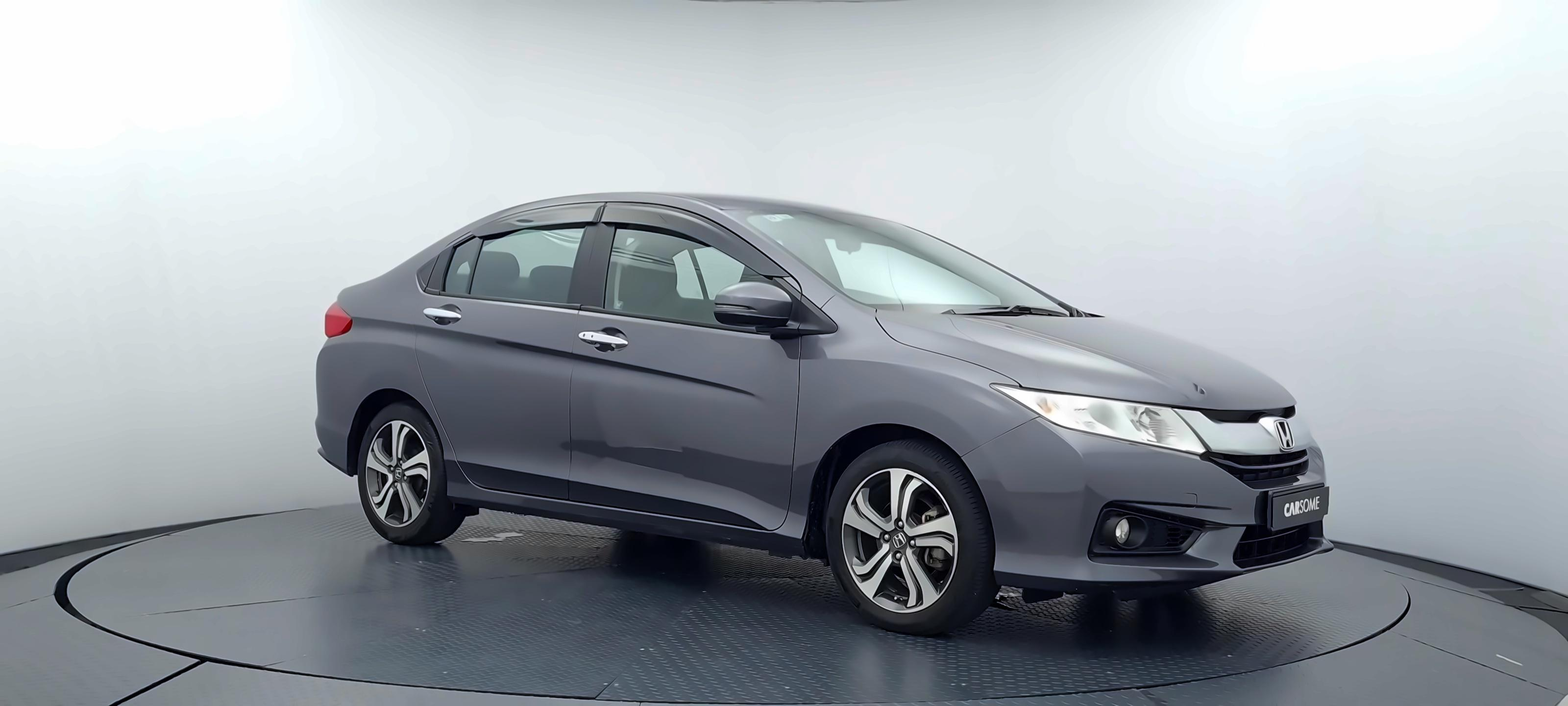Car hood: (870, 301, 1315, 420)
Driver-s door - -F-R-: (565, 189, 798, 551)
Fender - -F-R-: (799, 353, 986, 458)
Fender - -R-R-: (332, 335, 460, 423)
Front bumper: (957, 412, 1337, 593)
Headlight - -R-: (985, 376, 1209, 464)
Passenger-s door - -R-R-: (408, 194, 612, 504)
Rear bumper: (290, 333, 380, 480)
Rear light - -R-: (320, 298, 358, 344)
Side bumper - -R-: (437, 458, 820, 566)
Side mirror - -R-: (712, 282, 795, 337)
